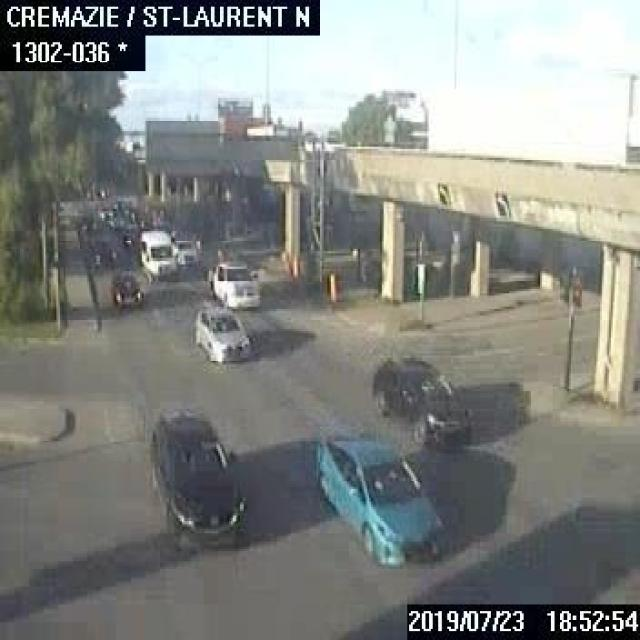vehicle: (313, 429, 442, 567), (147, 409, 244, 553), (369, 353, 473, 449), (193, 305, 260, 360), (204, 257, 257, 303), (138, 230, 182, 279), (86, 235, 120, 267), (111, 275, 143, 307), (170, 237, 198, 263)
